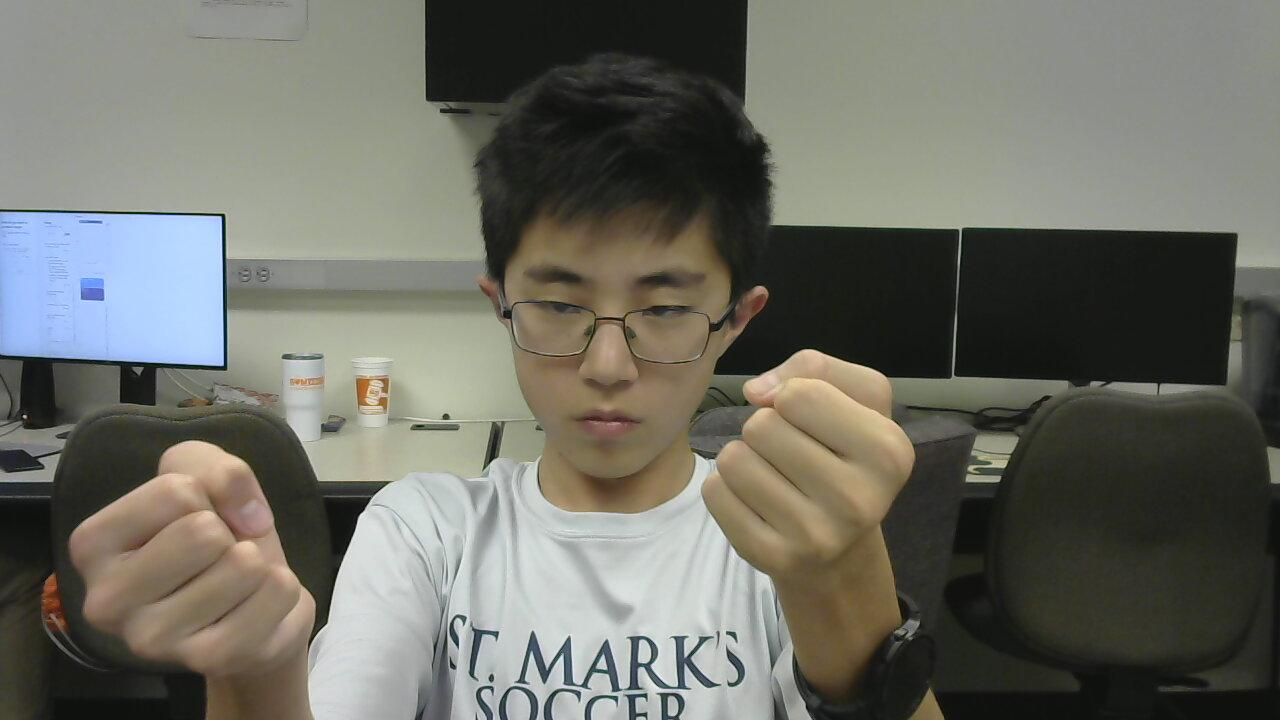fist: (56, 437, 342, 683), (693, 347, 922, 588)
